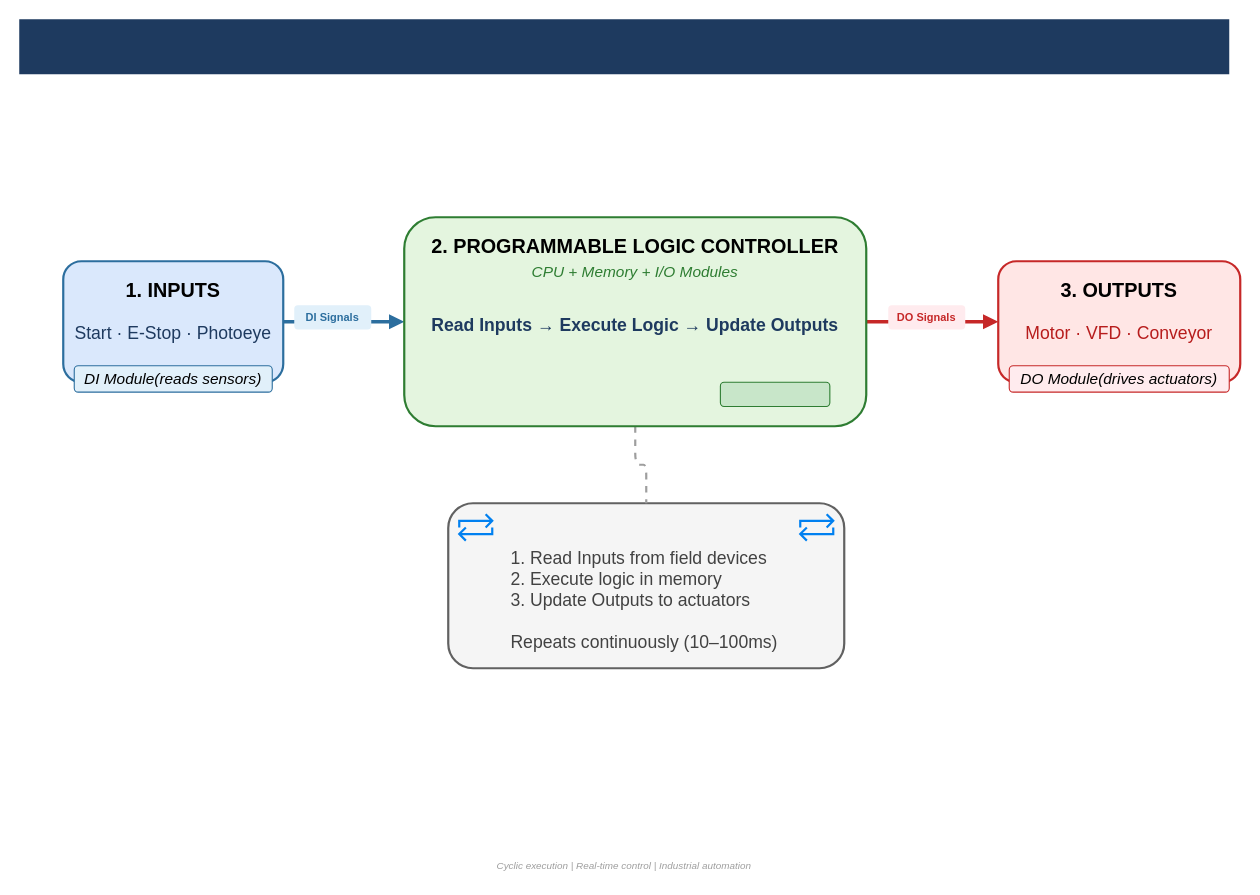
This 1260x895 diagram has some shape labels left out. The shapes that lost their labels are listed below. From the top down, each one's box as (x1, y1, x2, y2) in pixels, then its label:
(19, 19, 1229, 74): PLC CONTROL SYSTEM ARCHITECTURE
(719, 381, 830, 406): IEC 61131-3
(447, 502, 845, 669): THE SCAN CYCLE
